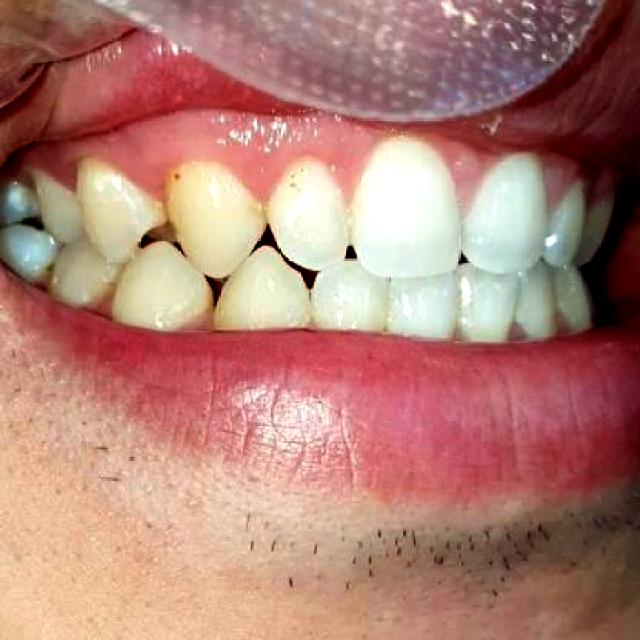Plaque: (158, 159, 209, 201)
